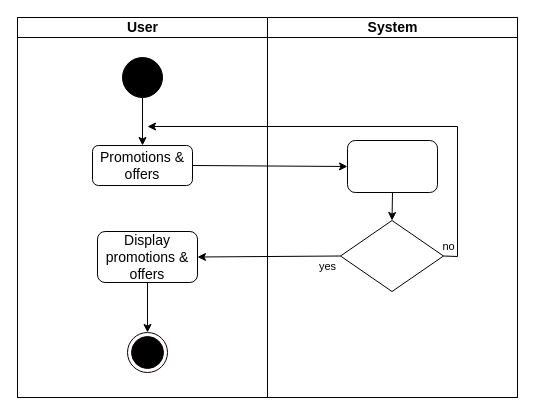
Some shapes in this 535 by 415 pixel diagram are drawn without their labels. The centre of each missing label's shape, as x and y in pixels:
"find promotions & offer" belongs at point 392,166.
"if found" belongs at point 392,256.
